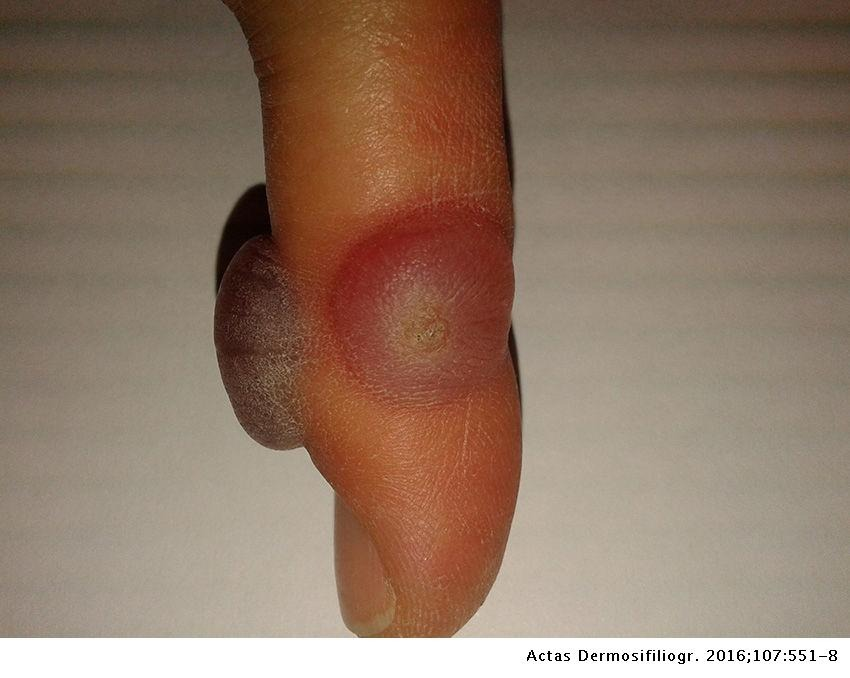Warts: (209, 170, 519, 468)
